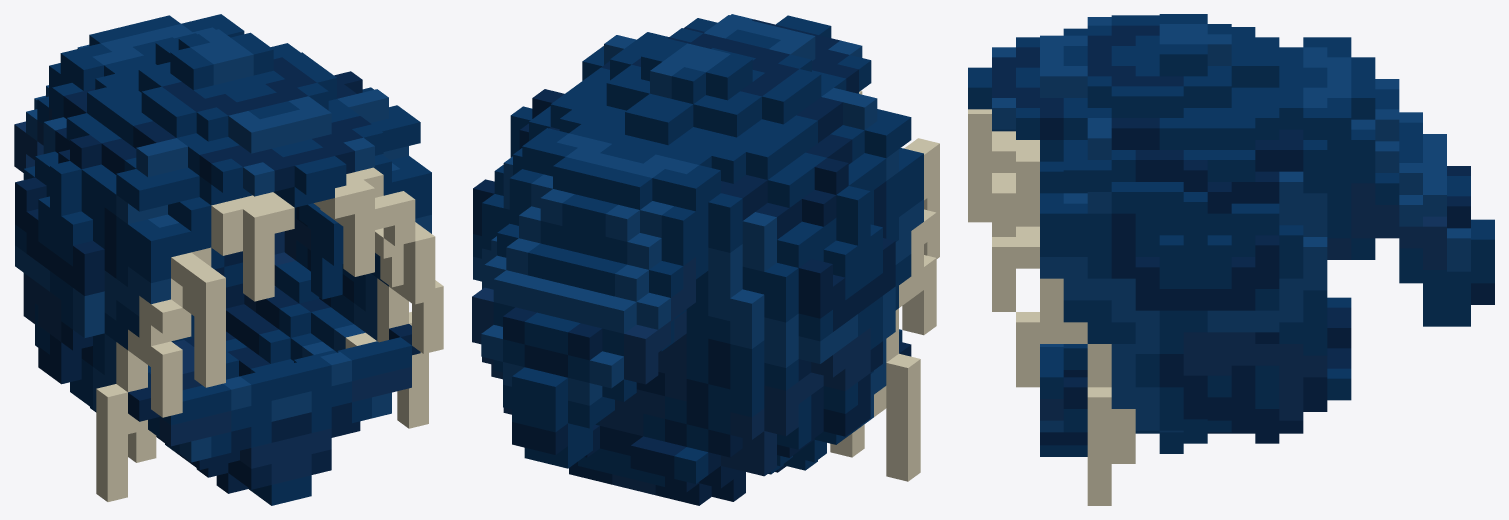
The model's file is yajin_female_hair.glb.
The picture shows the model from 3 angles, left to right: view 1: azimuth 30°, elevation 25°; view 2: azimuth 150°, elevation 25°; view 3: azimuth 270°, elevation 25°; orthographic projection. The views are drawn at different scales.
Visible parts, largest first — view 1: Helmet.001; view 2: Helmet.001; view 3: Helmet.001.
Boxes of the visible parts, x1,y1,x2,y2 form: Helmet.001: [14, 14, 443, 505]; Helmet.001: [472, 14, 939, 505]; Helmet.001: [968, 14, 1494, 505].
Bounding box in the file's own units: 0.6949 × 0.8252 × 0.9555.
4 materials, 4 textured.
